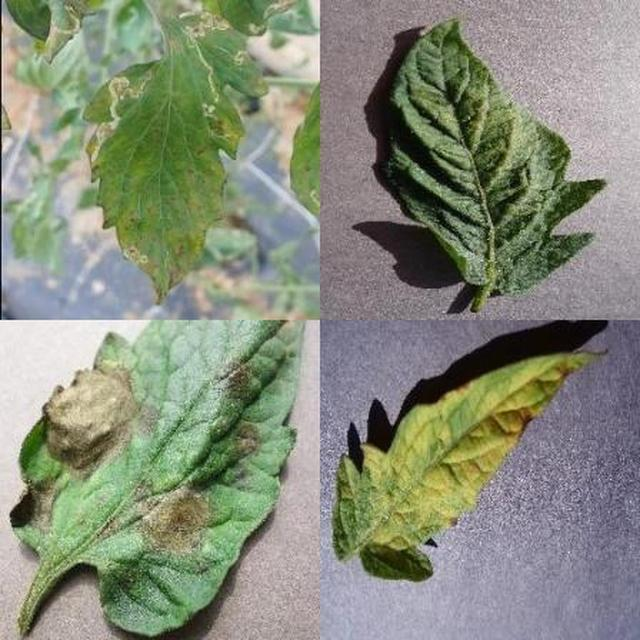Leaf Miner: (227, 219, 640, 640)
